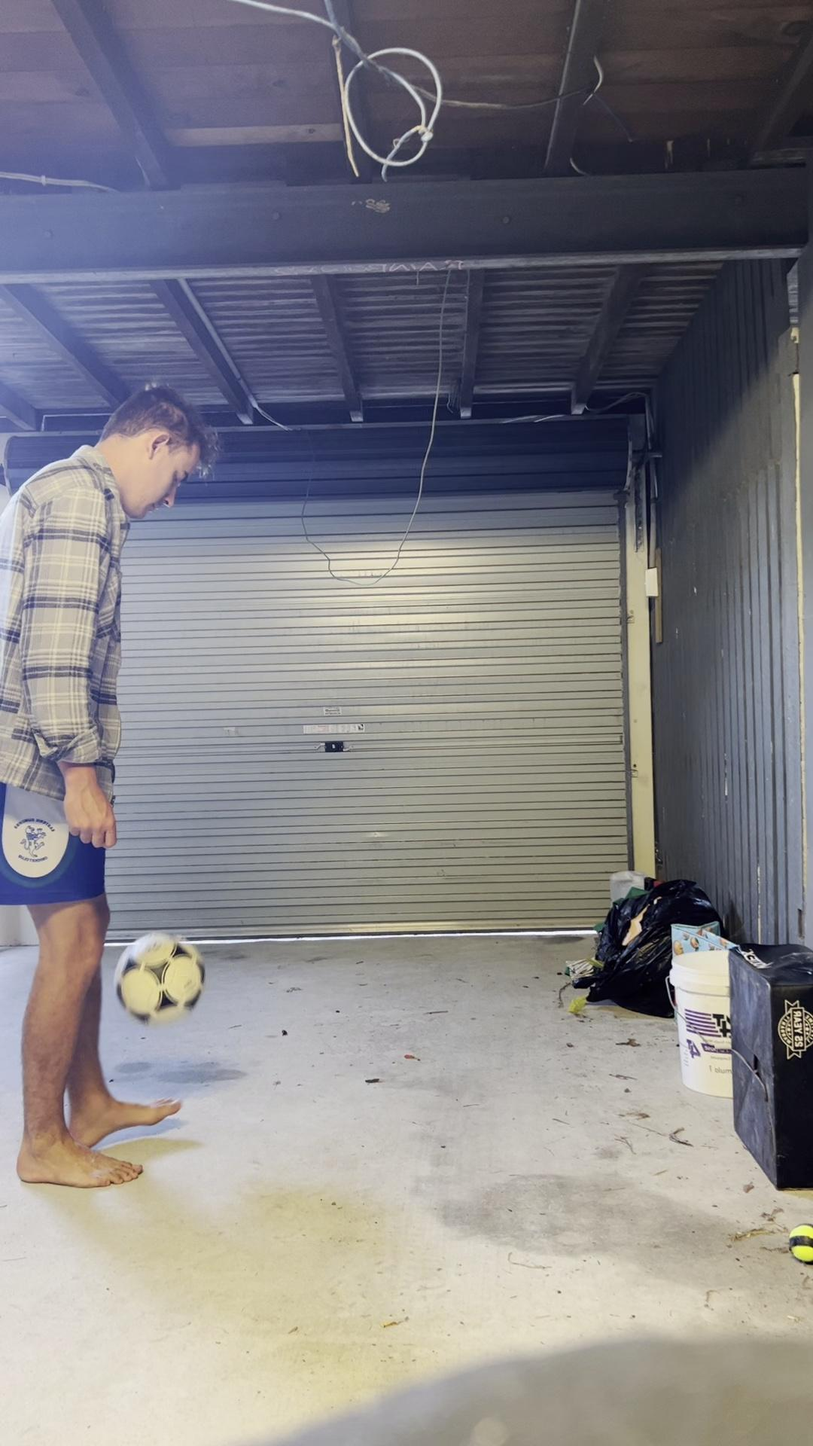ball: (114, 934, 207, 1027)
foot: (14, 1125, 148, 1190), (65, 1080, 181, 1153)
person: (1, 379, 228, 1195)
